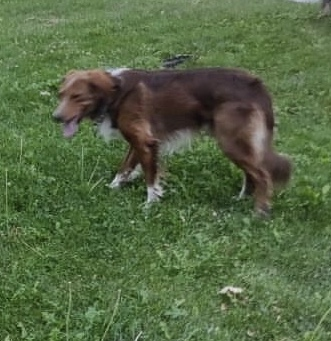dog: (46, 62, 289, 214)
